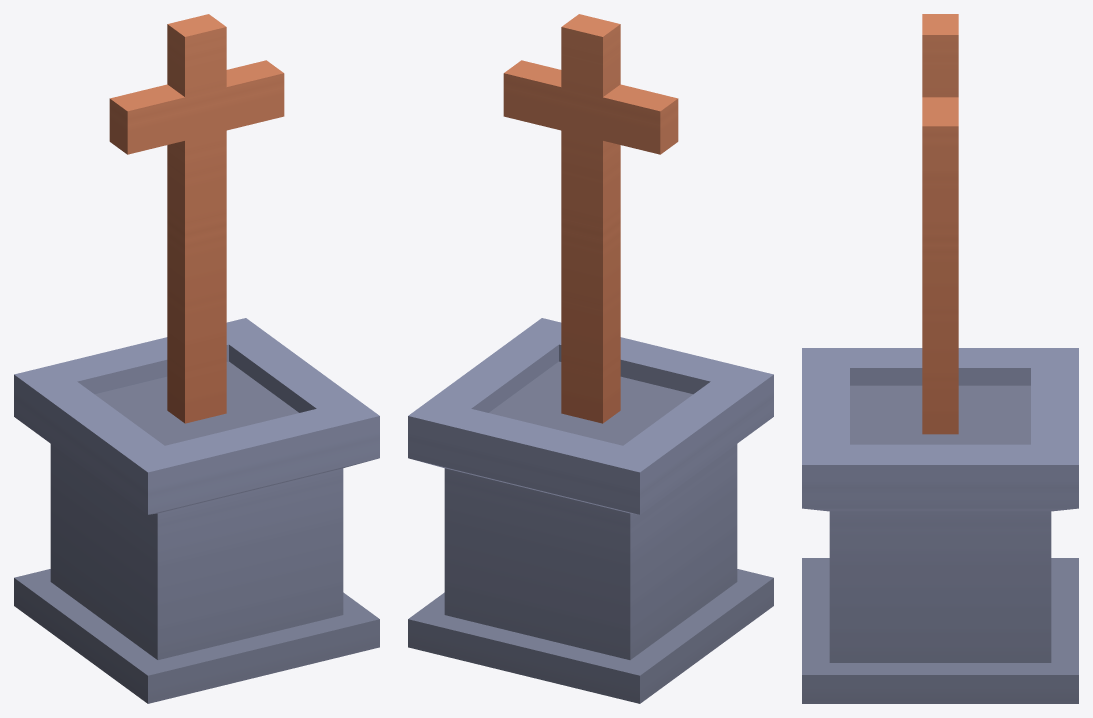
The model's file is cross-wood.glb.
3 views of the same model, side by side, from view 1: azimuth 30°, elevation 25°; view 2: azimuth 150°, elevation 25°; view 3: azimuth 270°, elevation 25° (orthographic). The views are drawn at different scales.
Parts seen in each view (by area): view 1: Asset3DLoader.sceneRoot; view 2: Asset3DLoader.sceneRoot; view 3: Asset3DLoader.sceneRoot.
Boxes of the visible parts, x1,y1,x2,y2 form: Asset3DLoader.sceneRoot: (14, 14, 379, 703); Asset3DLoader.sceneRoot: (408, 14, 773, 703); Asset3DLoader.sceneRoot: (802, 14, 1078, 703).
Size of the model in its own units: 0.43 by 1.06 by 0.43.
Materials: 1 (1 with a texture image).
